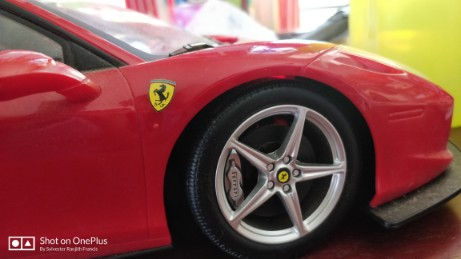unaligned_wheel: (202, 92, 362, 252)
